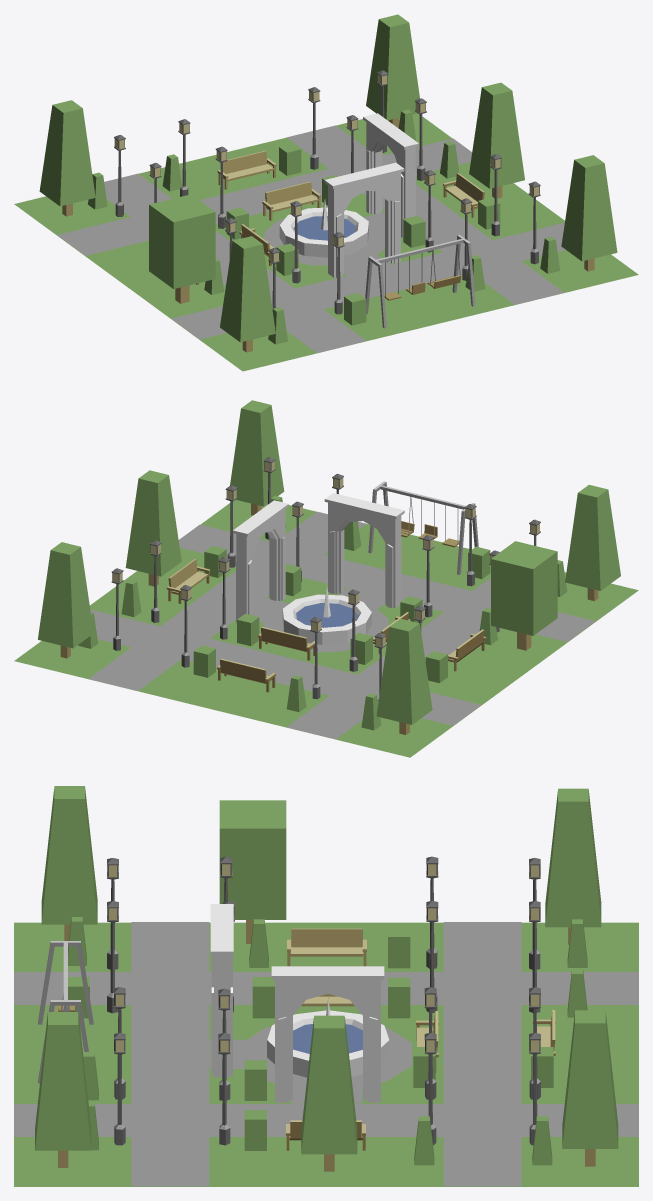
File: park_008.fbx
The picture shows the model from 3 angles, top to bottom: view 1: azimuth 30°, elevation 25°; view 2: azimuth 150°, elevation 25°; view 3: azimuth 270°, elevation 25°; orthographic projection. The views are drawn at different scales.
Parts seen in each view (by area): view 1: park_008; view 2: park_008; view 3: park_008.
Boxes of the visible parts, box(x1,y1,x2,y2) form: park_008: box(14, 14, 638, 371); park_008: box(14, 400, 638, 757); park_008: box(14, 786, 638, 1186).
Bounding box in the file's own units: 1600 × 485 × 1600.
